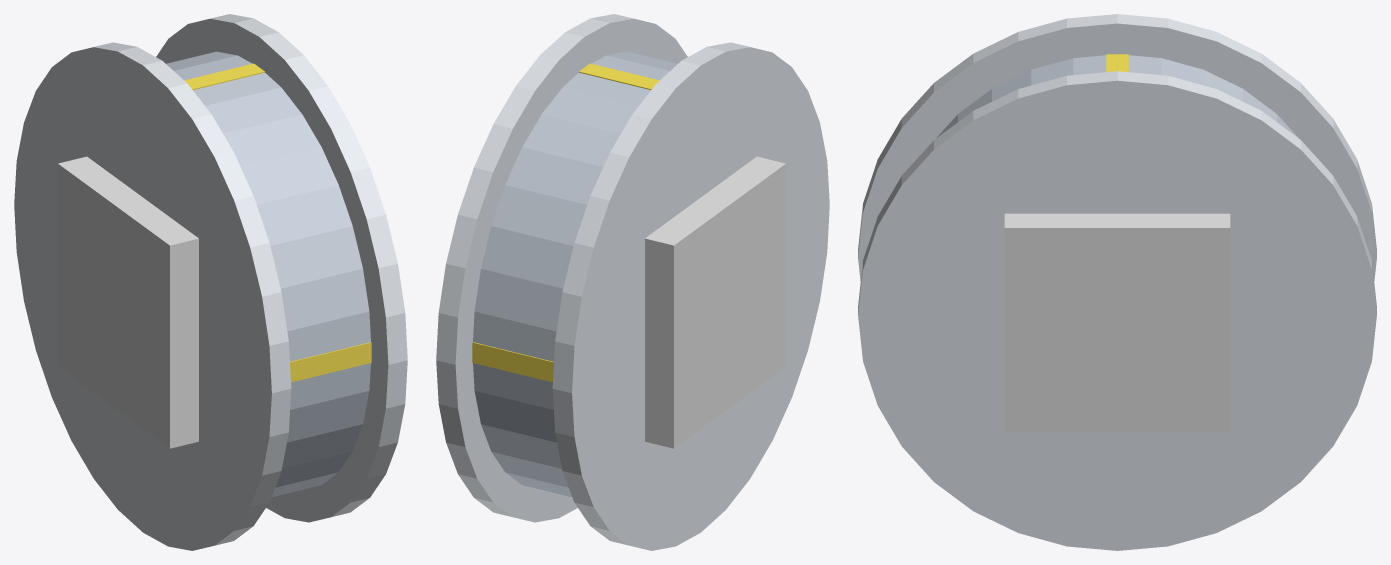
File: pulley_wheel.glb
3 views of the same model, side by side, from view 1: azimuth 30°, elevation 25°; view 2: azimuth 150°, elevation 25°; view 3: azimuth 270°, elevation 25° (orthographic).
Visible parts, largest first — view 1: Pulley_Rim_NegX, Pulley_Core, Cube, Pulley_Rim_PosX, Pulley_Spoke1, Pulley_Spoke2; view 2: Pulley_Rim_NegX, Pulley_Core, Cube, Pulley_Rim_PosX, Pulley_Spoke1, Pulley_Spoke2; view 3: Pulley_Rim_PosX, Cube, Pulley_Rim_NegX, Pulley_Core.
Boxes of the visible parts, left/top/right/bottom form: Pulley_Rim_NegX: left=14, top=42, right=291, bottom=550; Pulley_Core: left=166, top=51, right=370, bottom=496; Cube: left=58, top=156, right=198, bottom=448; Pulley_Rim_PosX: left=156, top=14, right=407, bottom=522; Pulley_Spoke1: left=290, top=342, right=371, bottom=382; Pulley_Spoke2: left=184, top=63, right=264, bottom=89; Pulley_Rim_NegX: left=552, top=42, right=829, bottom=550; Pulley_Core: left=473, top=51, right=677, bottom=496; Cube: left=645, top=156, right=785, bottom=448; Pulley_Rim_PosX: left=436, top=14, right=687, bottom=522; Pulley_Spoke1: left=472, top=342, right=553, bottom=382; Pulley_Spoke2: left=579, top=63, right=659, bottom=89; Pulley_Rim_PosX: left=858, top=71, right=1376, bottom=550; Cube: left=1004, top=213, right=1230, bottom=432; Pulley_Rim_NegX: left=858, top=14, right=1376, bottom=280; Pulley_Core: left=936, top=55, right=1298, bottom=137.
Size of the model in its own units: 2 by 4.6 by 4.6.
